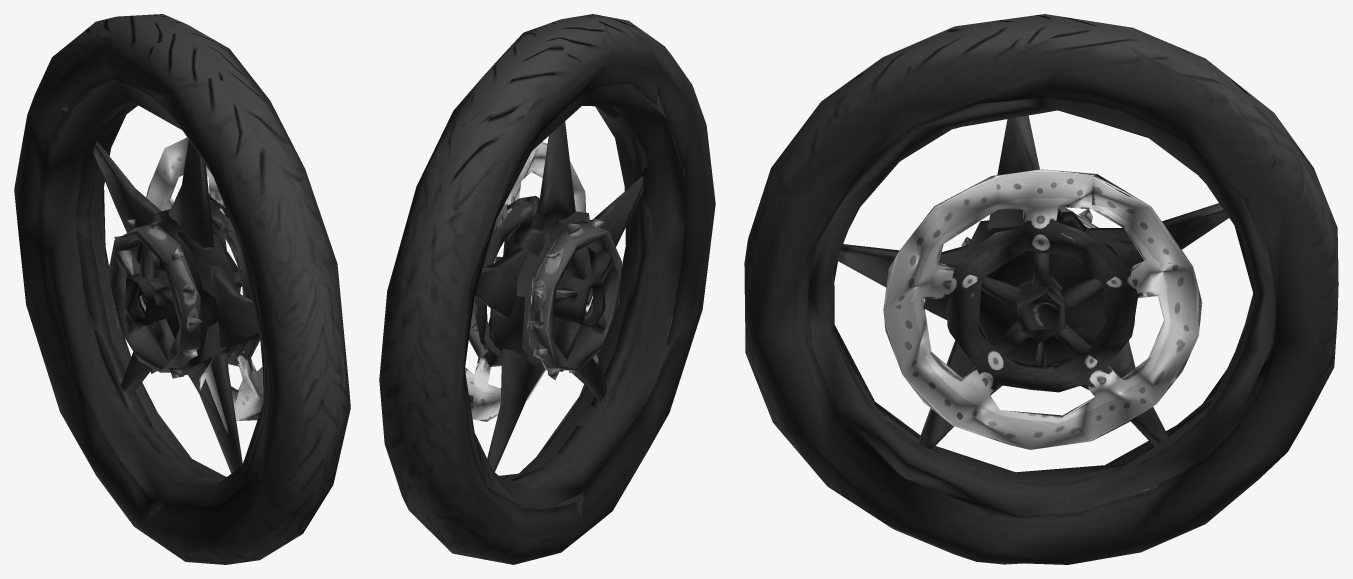
File: mc_front_wheel.obj
3 views of the same model, side by side, from view 1: azimuth 30°, elevation 25°; view 2: azimuth 150°, elevation 25°; view 3: azimuth 270°, elevation 25° (orthographic). The views are drawn at different scales.
Parts seen in each view (by area): view 1: wheel; view 2: wheel; view 3: wheel.
Part boxes in pixels (bbox=[...]): wheel: bbox=[14, 14, 350, 564]; wheel: bbox=[379, 14, 715, 564]; wheel: bbox=[744, 14, 1338, 564].
Bounding box in the file's own units: 0.1374 × 0.7007 × 0.6974.
